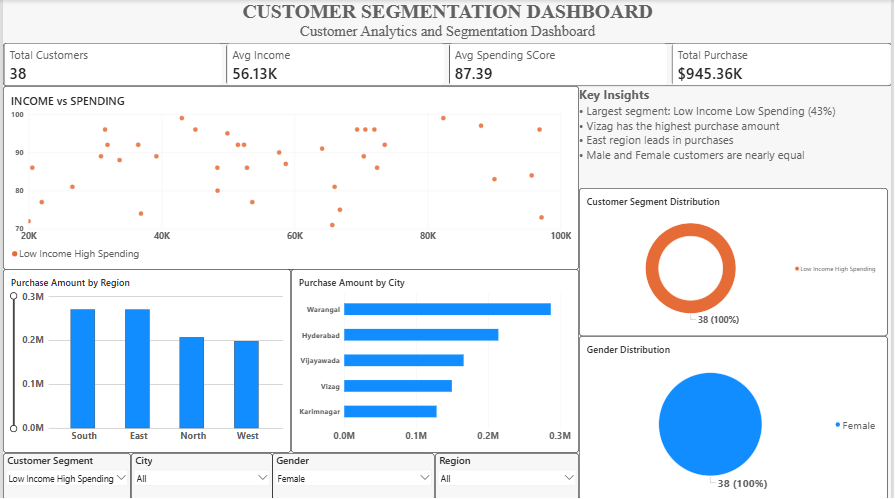

What the dashboard file says about the page in this screenshot:
{"tool":"powerbi","page":{"name":"Page 1","canvas":[1920,1080],"ordinal":0},"visuals":[{"type":"cardVisual","fields":{"Data":["CustomerSegmentation.Total Customers","CustomerSegmentation.Avg Income","CustomerSegmentation.Avg Spending SCore","CustomerSegmentation.Total Purchase"]},"box":[0,92.9,1920.2,92.9],"z":0},{"type":"textbox","box":[0,0,1920.2,92.9],"z":1},{"type":"donutChart","title":"Customer Segment Distribution","fields":{"Category":["CustomerSegmentation.Customer Segment"],"Y":["CountNonNull(CustomerSegmentation.CustomerID)"]},"box":[1244.2,406.1,667.4,319.7],"z":2},{"type":"scatterChart","title":"INCOME vs SPENDING","fields":{"Series":["CustomerSegmentation.Customer Segment"],"X":["CustomerSegmentation.AnnualIncome"],"Y":["CustomerSegmentation.SpendingScore"]},"box":[0,185,1244.2,396.9],"z":3},{"type":"pieChart","title":"Gender Distribution","fields":{"Category":["CustomerSegmentation.Gender"],"Y":["CountNonNull(CustomerSegmentation.CustomerID)"]},"box":[1244.2,725.8,667.4,354.2],"z":4},{"type":"clusteredColumnChart","title":"Purchase Amount by Region","fields":{"Category":["CustomerSegmentation.Region"],"Y":["Sum(CustomerSegmentation.PurchaseAmount)"]},"box":[0,581.9,622.1,396.9],"z":5},{"type":"clusteredBarChart","title":"Purchase Amount by City","fields":{"Category":["CustomerSegmentation.City"],"Y":["Sum(CustomerSegmentation.PurchaseAmount)"]},"box":[622.1,581.9,622.1,396.9],"z":6},{"type":"slicer","fields":{"Values":["CustomerSegmentation.Customer Segment"]},"box":[0,978.8,276.2,101.9],"z":7},{"type":"slicer","fields":{"Values":["CustomerSegmentation.Gender"]},"box":[581.9,978.8,351.3,101.9],"z":8},{"type":"slicer","fields":{"Values":["CustomerSegmentation.City"]},"box":[276.2,978.8,305.7,101.9],"z":9},{"type":"slicer","fields":{"Values":["CustomerSegmentation.Region"]},"box":[933.2,978.8,311.1,101.9],"z":10},{"type":"textbox","box":[1244,186,676,220],"z":11}]}

Visuals, with their boxes in screenshot pixels (x1, y1, x2, y2), scaled from the page's 1920x1080 canvas onto the 895x499 screenshot:
cardVisual - CustomerSegmentation.Total Customers x CustomerSegmentation.Avg Income: 0 43 894 86
textbox: 0 0 894 43
"Customer Segment Distribution" donutChart: 580 188 891 335
"INCOME vs SPENDING" scatterChart: 0 85 580 269
"Gender Distribution" pieChart: 580 335 891 498
"Purchase Amount by Region" clusteredColumnChart: 0 269 290 452
"Purchase Amount by City" clusteredBarChart: 290 269 580 452
slicer - CustomerSegmentation.Customer Segment: 0 452 129 498
slicer - CustomerSegmentation.Gender: 271 452 435 498
slicer - CustomerSegmentation.City: 129 452 271 498
slicer - CustomerSegmentation.Region: 435 452 580 498
textbox: 580 86 894 188
